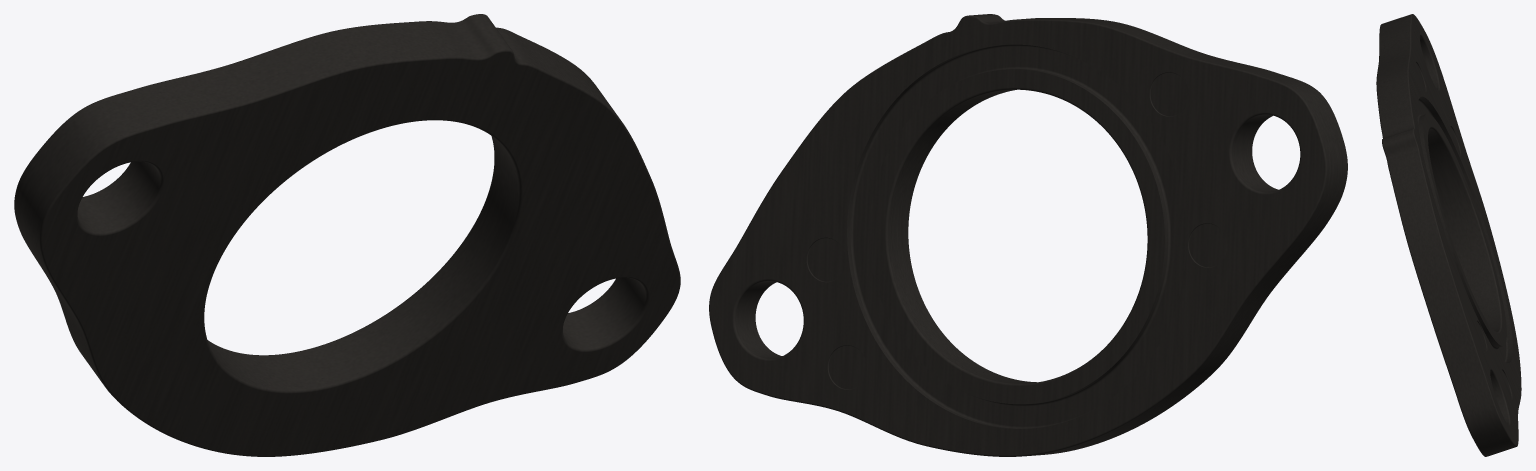
The model's file is engine-intake-insulator-v2-inspection.glb.
3 views of the same model, side by side, from view 1: azimuth 30°, elevation 25°; view 2: azimuth 150°, elevation 25°; view 3: azimuth 270°, elevation 25° (orthographic). The views are drawn at different scales.
Parts seen in each view (by area): view 1: Intake insulating spacer exterior - conditional UG5; view 2: Intake insulating spacer exterior - conditional UG5; view 3: Intake insulating spacer exterior - conditional UG5.
Boxes of the visible parts, left/top/right/bottom form: Intake insulating spacer exterior - conditional UG5: left=14, top=14, right=680, bottom=456; Intake insulating spacer exterior - conditional UG5: left=709, top=14, right=1347, bottom=456; Intake insulating spacer exterior - conditional UG5: left=1376, top=14, right=1521, bottom=456.
Bounding box in the file's own units: 0.0561 × 0.0377 × 0.0169.
Materials: 1 (1 with a texture image).
